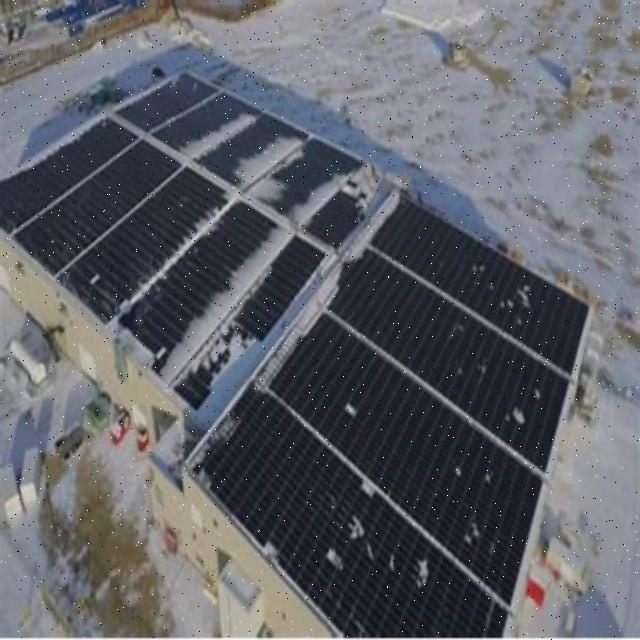snow covered: (5, 82, 387, 433)
